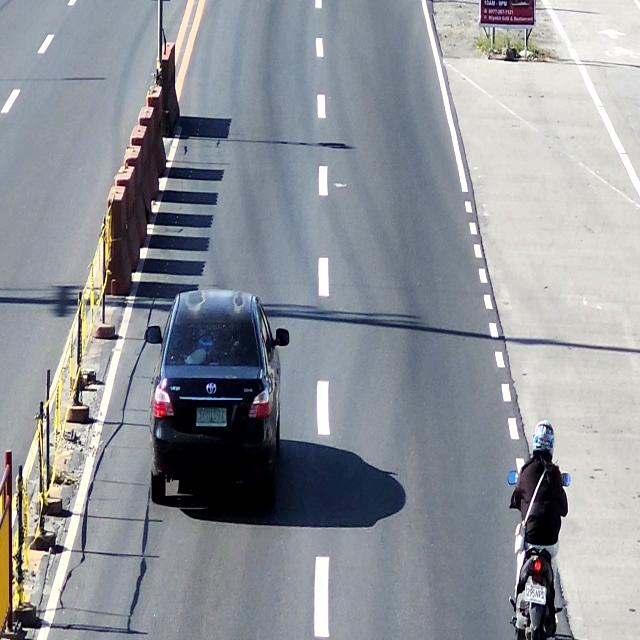Car: (153, 287, 284, 510)
License-Plate: (193, 405, 230, 431), (523, 579, 548, 605)
Motorcycle: (504, 459, 569, 640)
